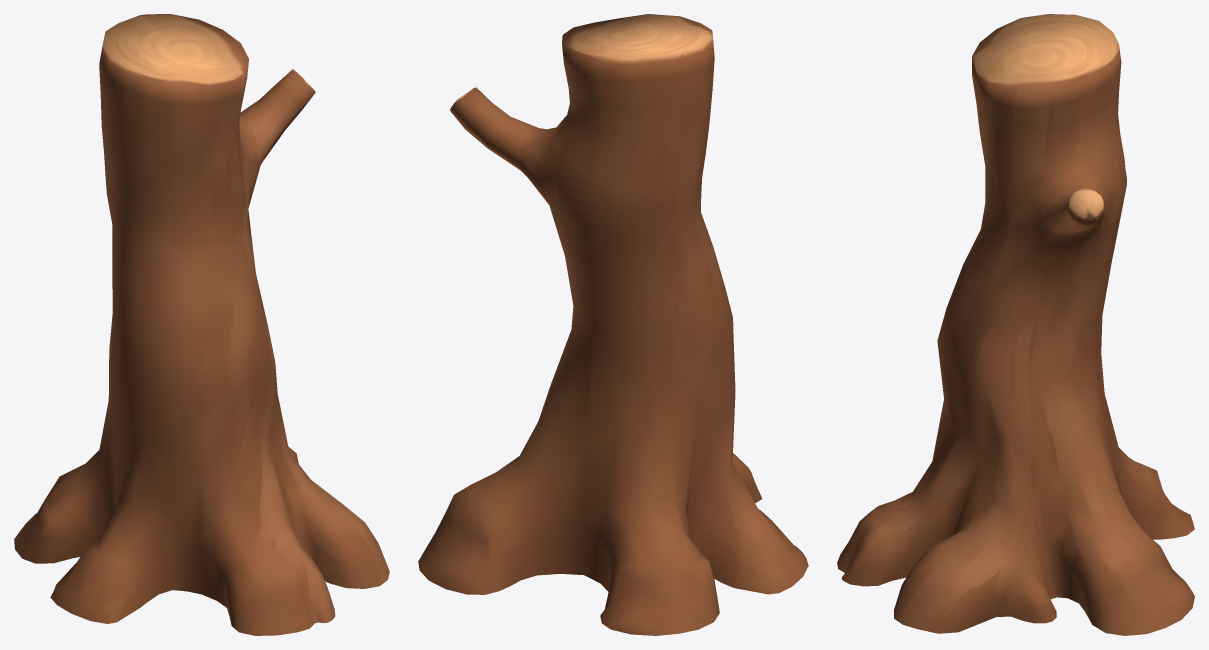
The model's file is bg_trunk.glb.
3 views of the same model, side by side, from view 1: azimuth 30°, elevation 25°; view 2: azimuth 150°, elevation 25°; view 3: azimuth 270°, elevation 25° (orthographic). The views are drawn at different scales.
Visible parts, largest first — view 1: tripo_node_5ee70f77-b85e-4275-ac88-98c1458f6ad8; view 2: tripo_node_5ee70f77-b85e-4275-ac88-98c1458f6ad8; view 3: tripo_node_5ee70f77-b85e-4275-ac88-98c1458f6ad8.
Part boxes in pixels (x1,y1,x2,y2): tripo_node_5ee70f77-b85e-4275-ac88-98c1458f6ad8: [14, 14, 389, 635]; tripo_node_5ee70f77-b85e-4275-ac88-98c1458f6ad8: [418, 14, 808, 635]; tripo_node_5ee70f77-b85e-4275-ac88-98c1458f6ad8: [837, 14, 1194, 635].
Bounding box in the file's own units: 0.5996 × 0.998 × 0.627.
1 material, 1 textured.
